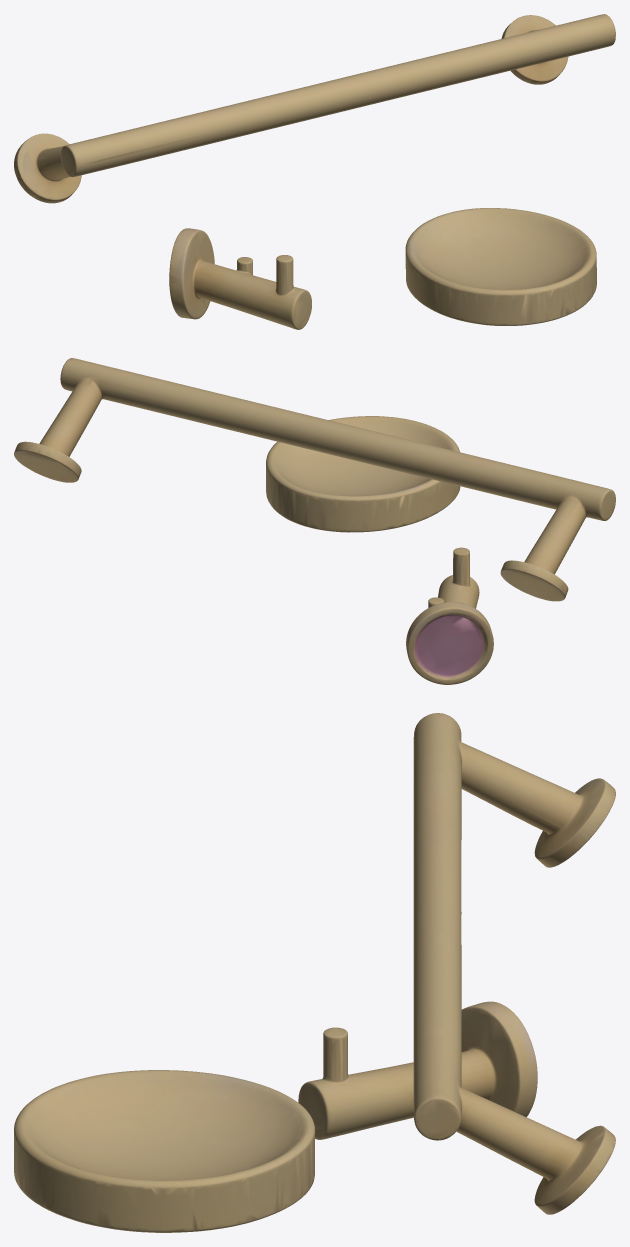
3 renders of one model, top to bottom at view 1: azimuth 30°, elevation 25°; view 2: azimuth 150°, elevation 25°; view 3: azimuth 270°, elevation 25°, orthographic. The views are drawn at different scales.
Parts seen in each view (by area): view 1: material; view 2: material; view 3: material.
Part boxes in pixels (x1,y1,x2,y2): material: (14,14,615,329); material: (14,358,615,684); material: (14,713,615,1232).
Size of the model in its own units: 1.02 by 0.3839 by 0.6659.
1 material, 1 textured.
